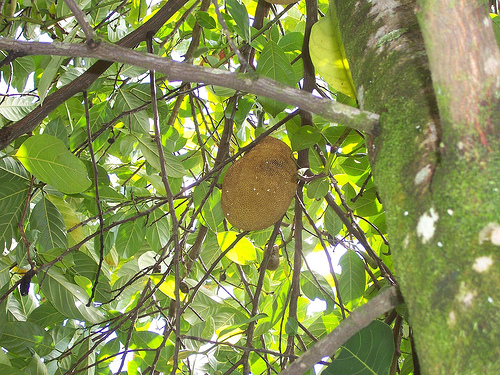jackfruit: (221, 134, 298, 233)
